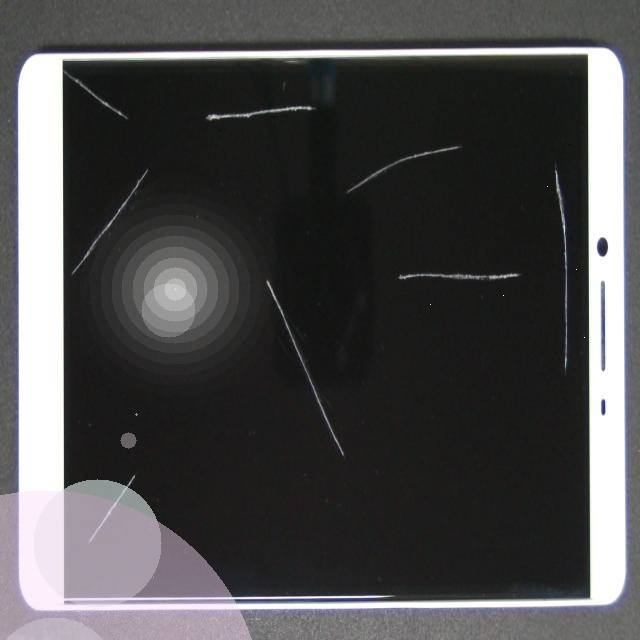scratch: (265, 0, 640, 376), (194, 109, 582, 414), (40, 259, 127, 640), (96, 75, 291, 225)
